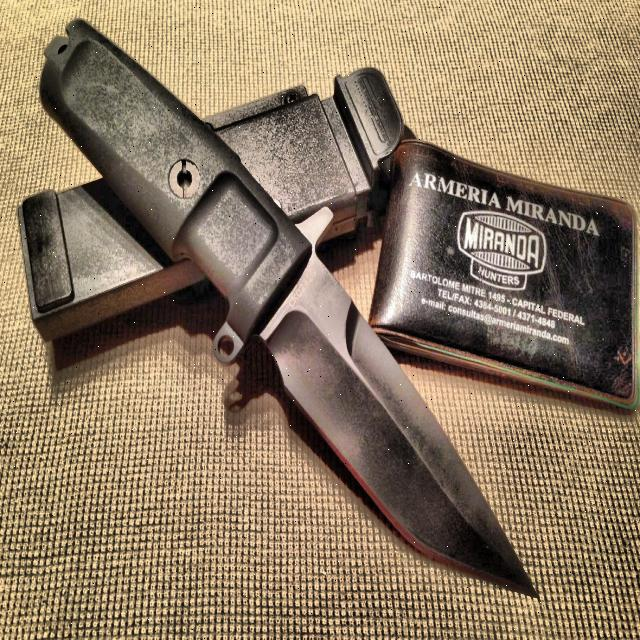knife: (41, 21, 538, 600)
